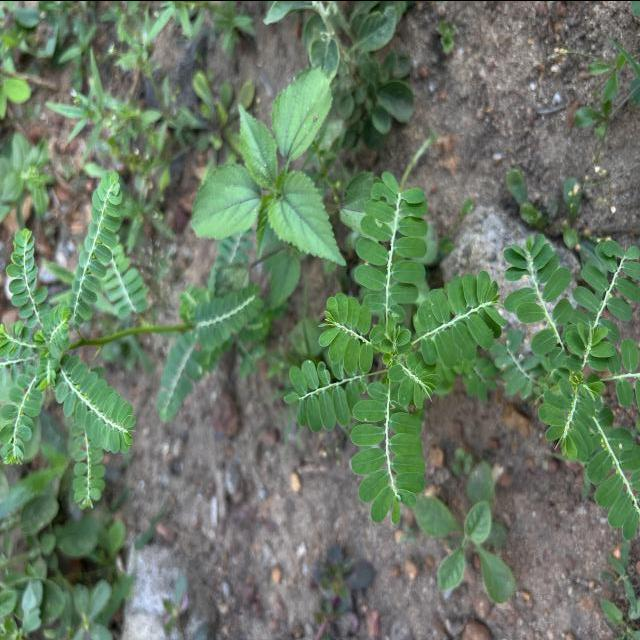Phyllanthus niruri: (347, 376, 428, 524), (353, 168, 429, 315), (416, 268, 509, 370), (53, 350, 139, 460), (317, 286, 392, 376), (280, 358, 354, 432)
